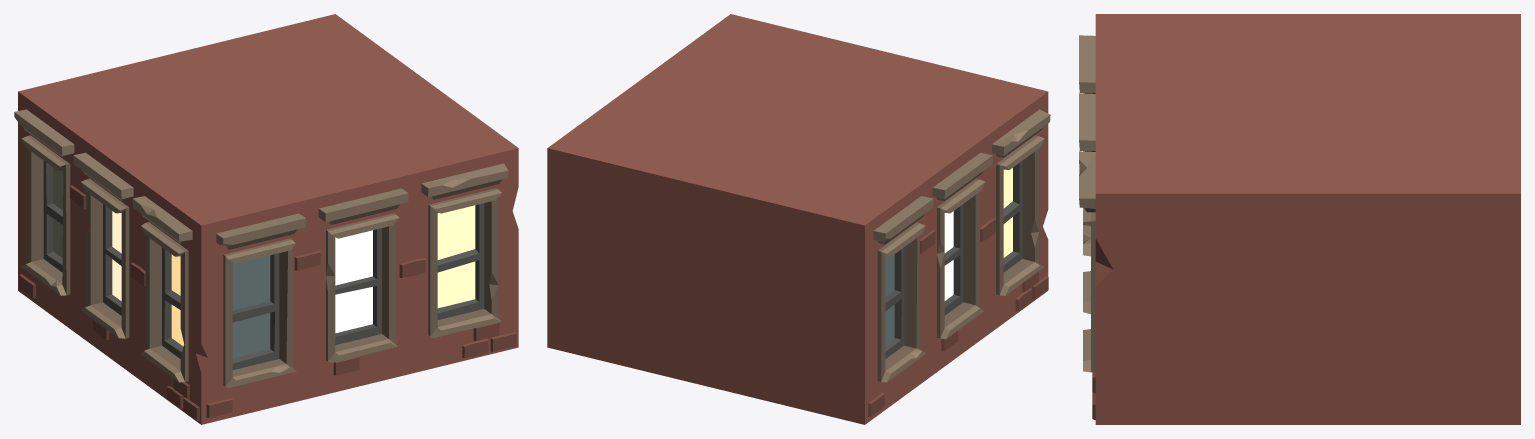
File: SM_Bld_Apartment_Corner_01.fbx
The picture shows the model from 3 angles, left to right: view 1: azimuth 30°, elevation 25°; view 2: azimuth 150°, elevation 25°; view 3: azimuth 270°, elevation 25°; orthographic projection. The views are drawn at different scales.
Visible parts, largest first — view 1: SM_Bld_Apartment_Corner_01; view 2: SM_Bld_Apartment_Corner_01; view 3: SM_Bld_Apartment_Corner_01.
Part boxes in pixels (left/top/right/bottom): SM_Bld_Apartment_Corner_01: left=14, top=14, right=518, bottom=424; SM_Bld_Apartment_Corner_01: left=547, top=14, right=1050, bottom=424; SM_Bld_Apartment_Corner_01: left=1079, top=14, right=1520, bottom=424.
Bounding box in the file's own units: 520 × 300 × 520.
